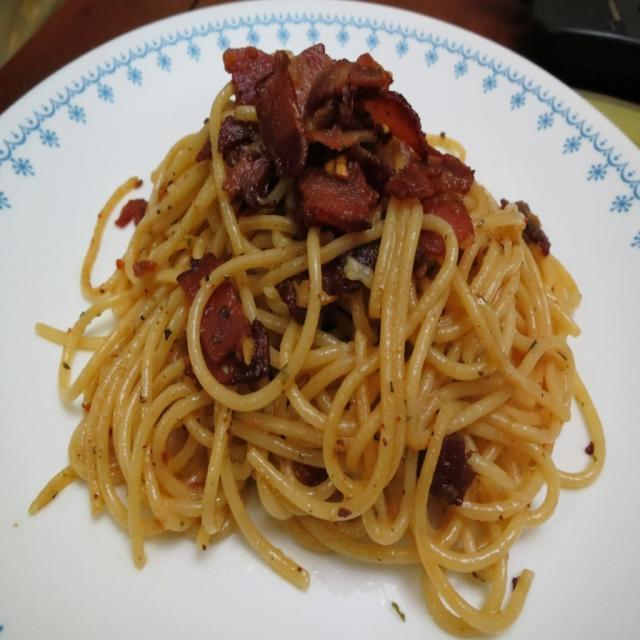Oil pasta: (71, 40, 612, 592)
